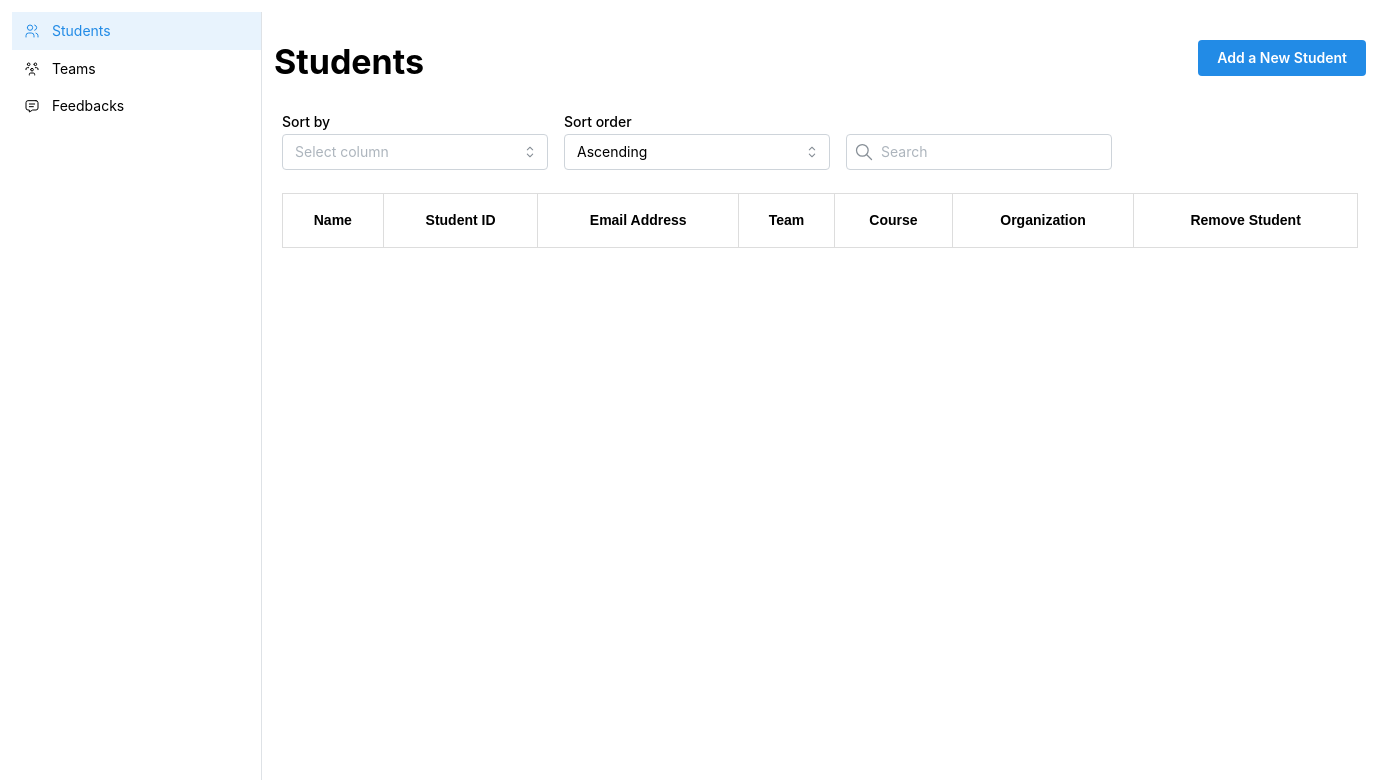
Test: InstructorDashboard › teams tab takes you to team page
expect the icon with test id "Student" is shown: met, box top-left (24, 23), bottom-right (40, 39)
Click the icon with test id "Teams": (32, 68) top-left (24, 60), bottom-right (40, 76)
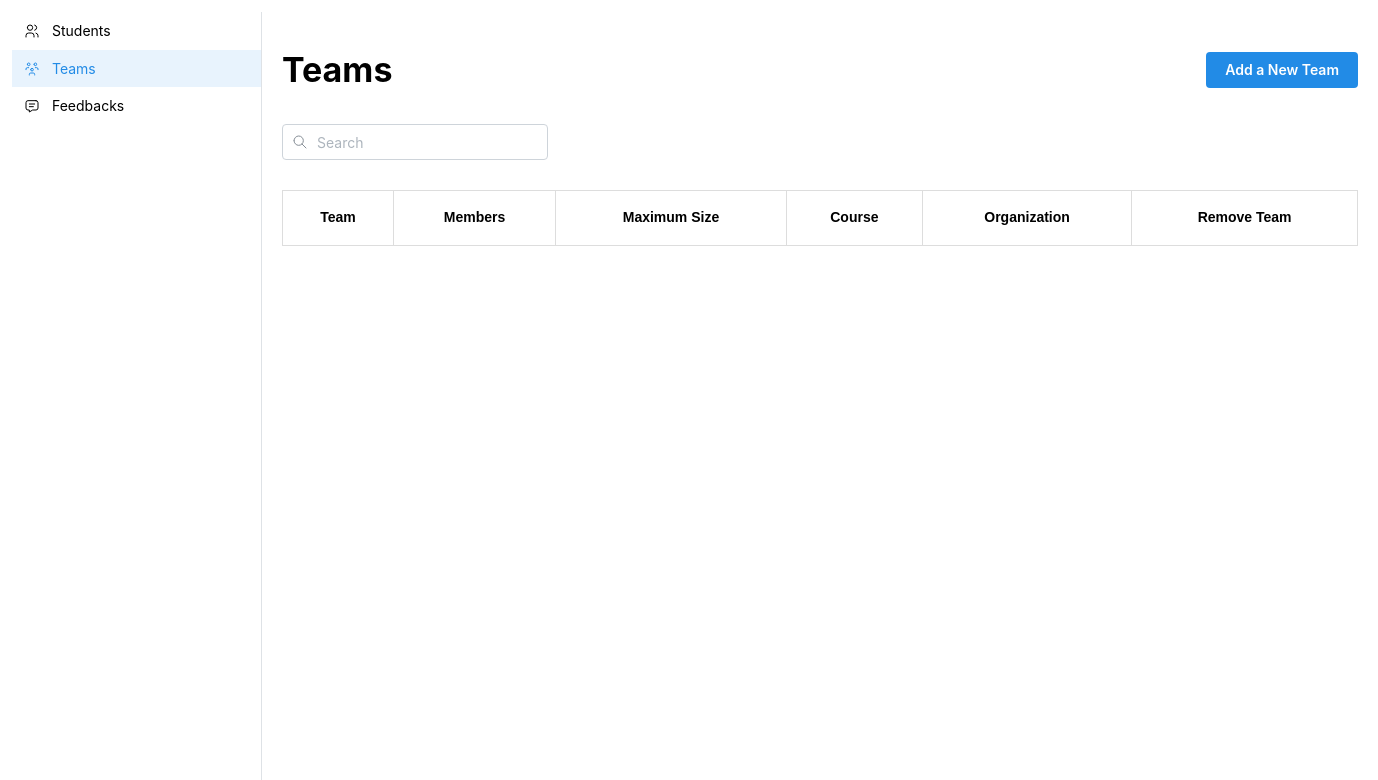
expect the heading "Teams" is shown: met, box top-left (282, 48), bottom-right (392, 92)
